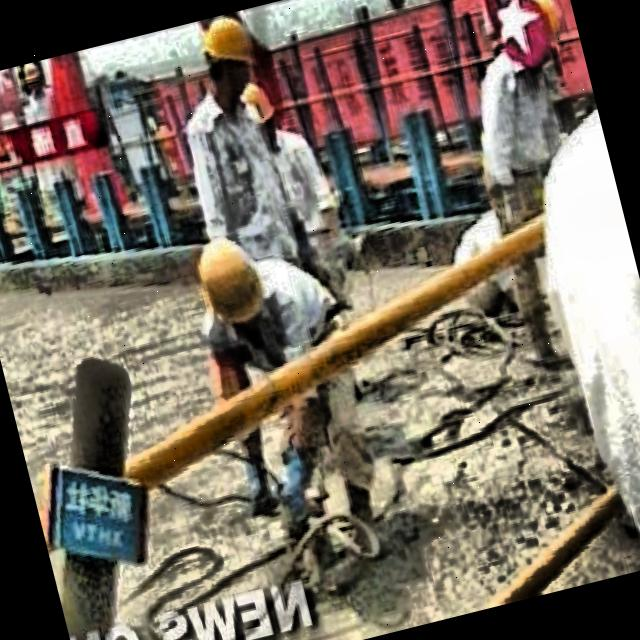helmet: (188, 224, 278, 344), (189, 8, 269, 109)
